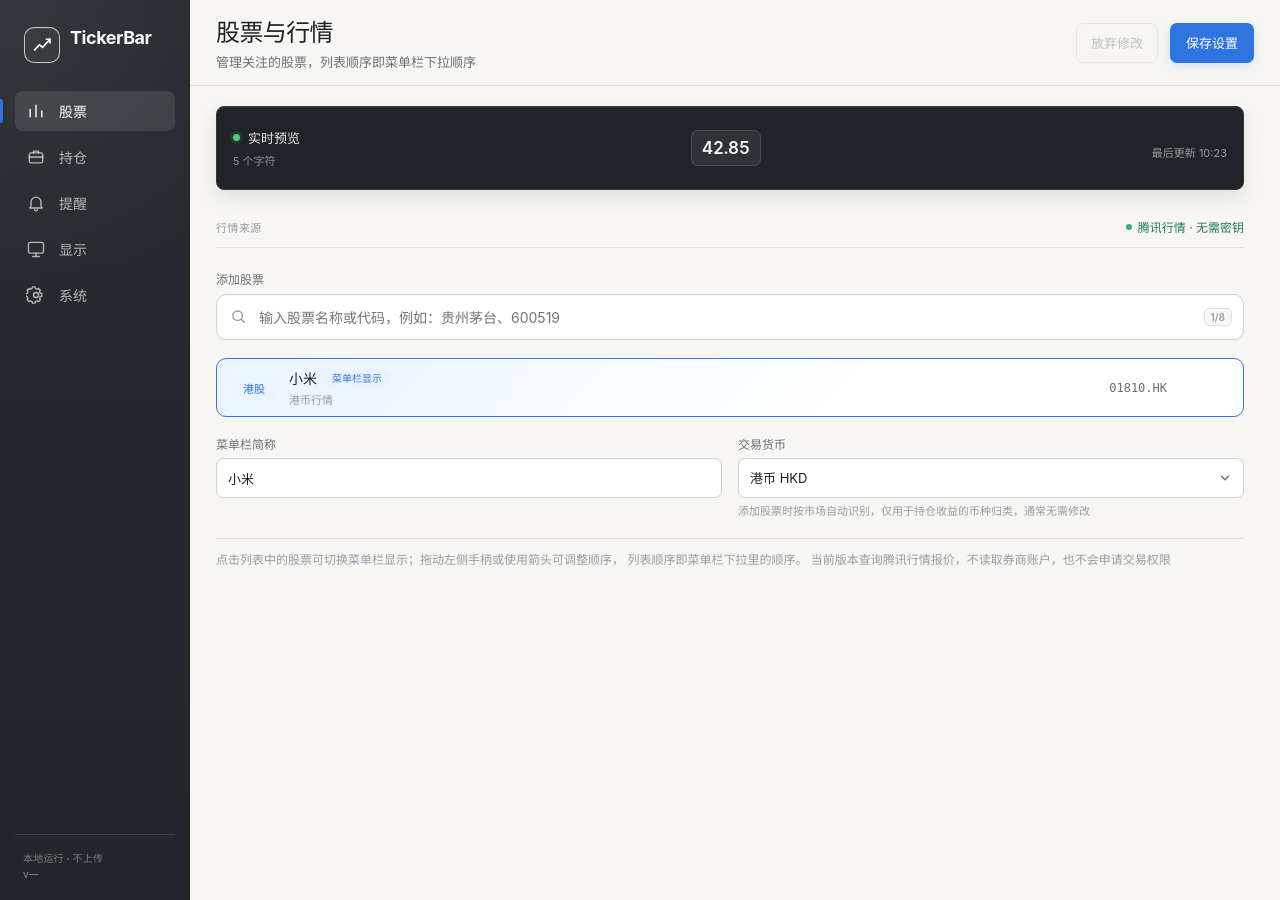
Test: TickerBar settings window › 逐股显示收益并按币种分组展示合计
Click the button with test id "nav-position": (95, 157) 15,137 -> 175,177
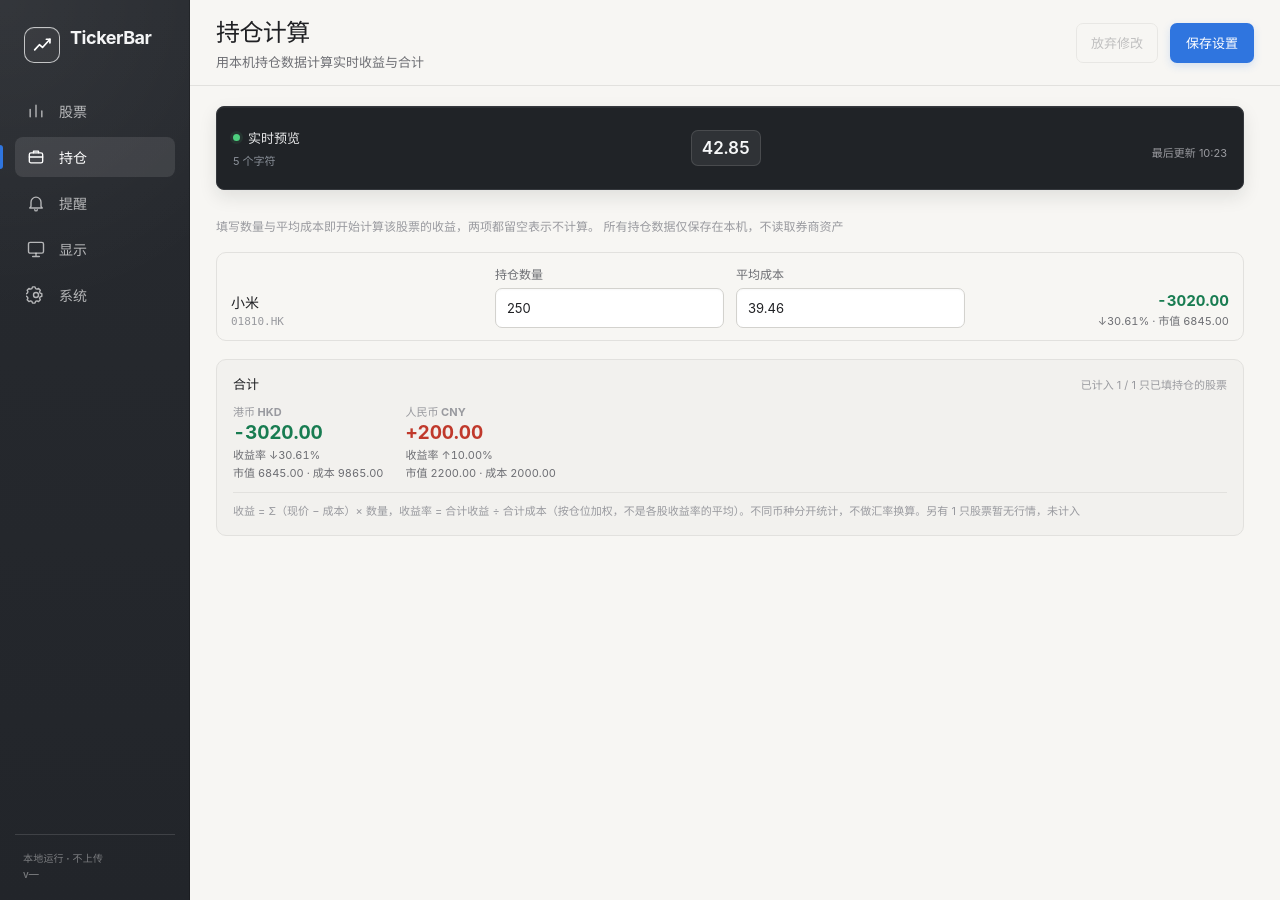
Check: the element with test id "position-result-01810.HK" shows "-3020.00", box 1157,291 -> 1229,310
Check: the element with test id "position-total-HKD" shows "-3020.00", box 233,421 -> 323,444
Check: the element with test id "position-total-CNY" shows "+200.00", box 406,421 -> 483,444
